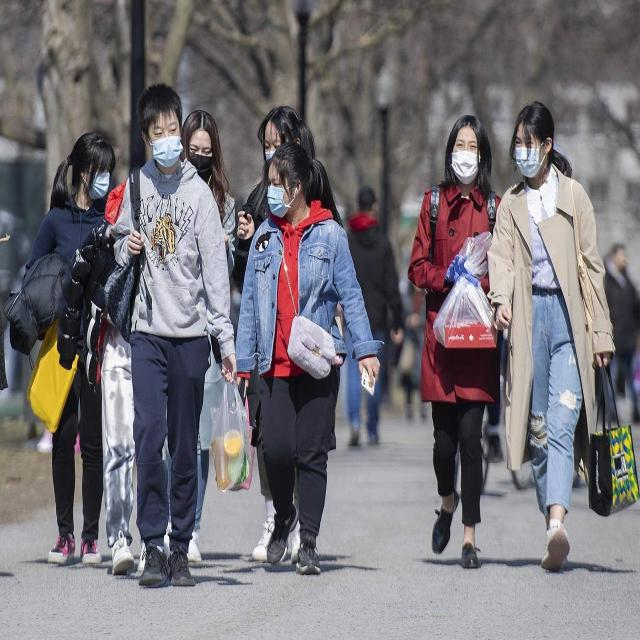adult: (108, 83, 241, 588), (488, 101, 615, 574), (248, 152, 376, 573), (408, 115, 506, 569), (26, 132, 121, 572), (178, 110, 237, 273)
